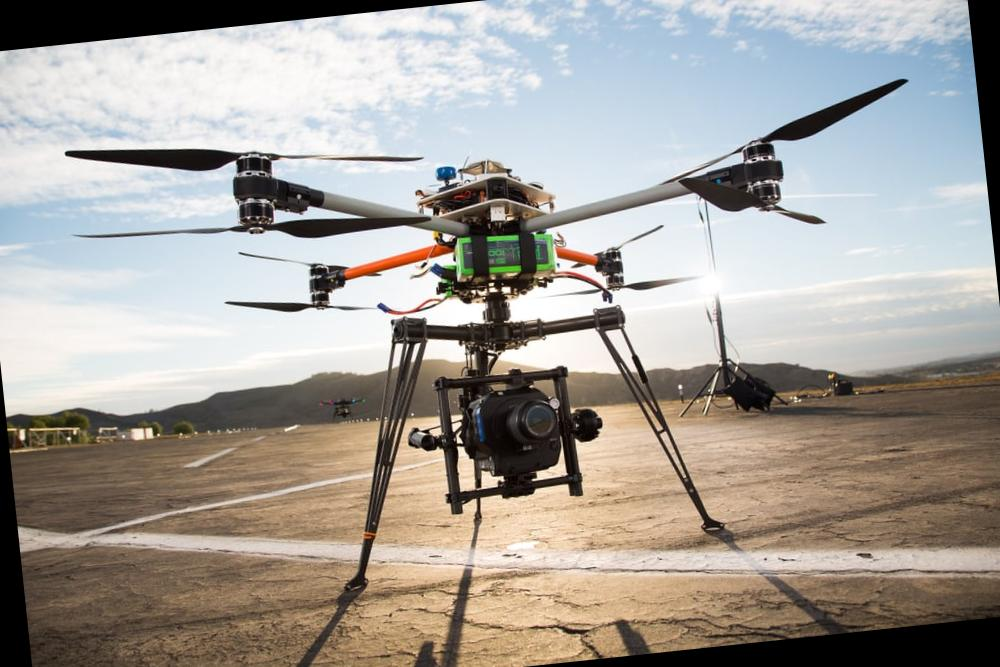drone: (33, 35, 958, 537)
